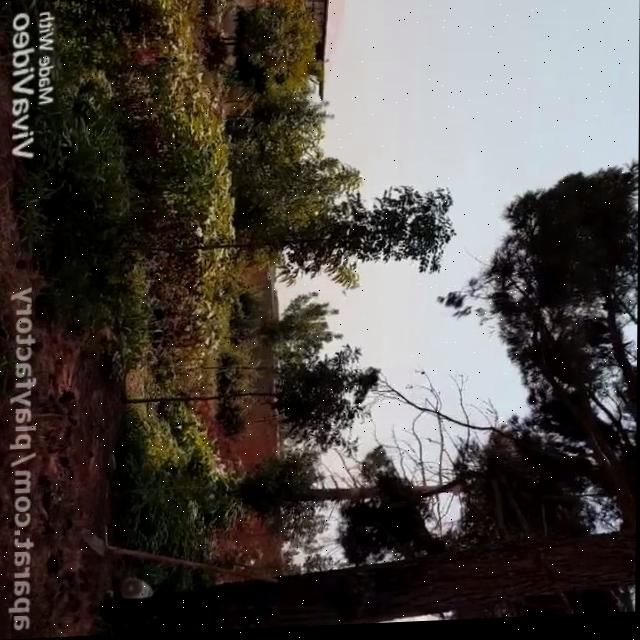drone: (338, 288, 352, 302)
